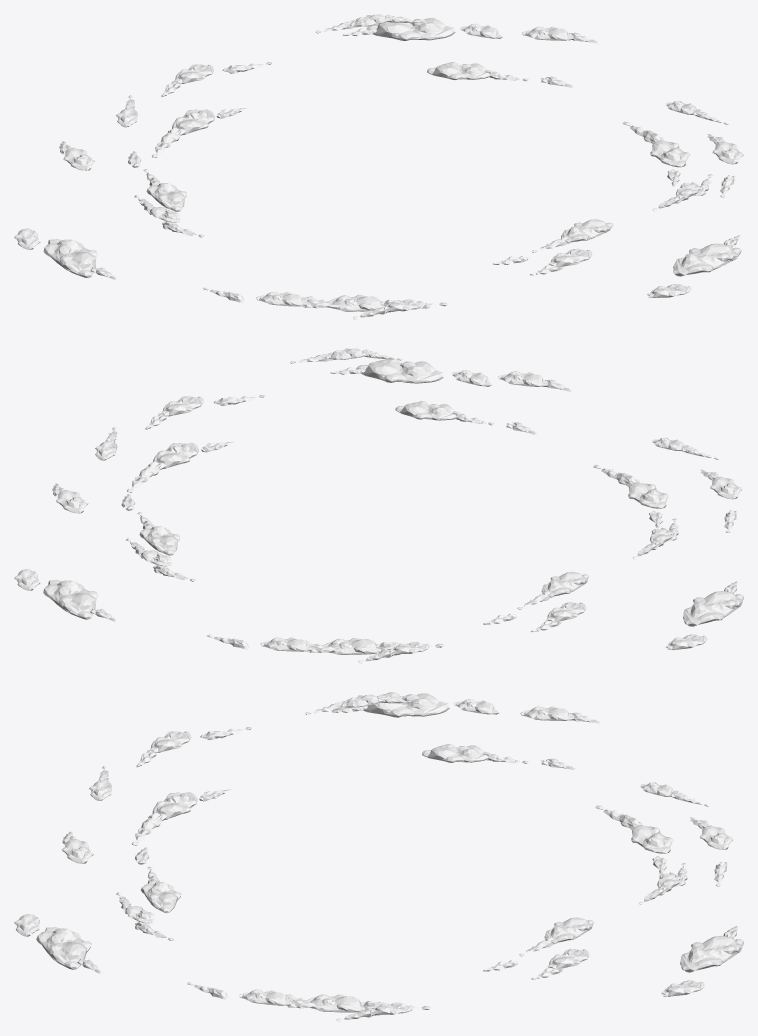
The model's file is Big_Cloud_Ring_01.glb.
3 renders of one model, top to bottom at view 1: azimuth 30°, elevation 25°; view 2: azimuth 150°, elevation 25°; view 3: azimuth 270°, elevation 25°, orthographic. The views are drawn at different scales.
Parts seen in each view (by area): view 1: SM_Gen_Env_Cloud_Ring_01; view 2: SM_Gen_Env_Cloud_Ring_01; view 3: SM_Gen_Env_Cloud_Ring_01.
Boxes of the visible parts, x1=… form: SM_Gen_Env_Cloud_Ring_01: x1=14, y1=14, x2=743, y2=319; SM_Gen_Env_Cloud_Ring_01: x1=14, y1=348, x2=743, y2=663; SM_Gen_Env_Cloud_Ring_01: x1=14, y1=692, x2=743, y2=1021.
Size of the model in its own units: 344 by 30.29 by 322.
1 material, 1 textured.
